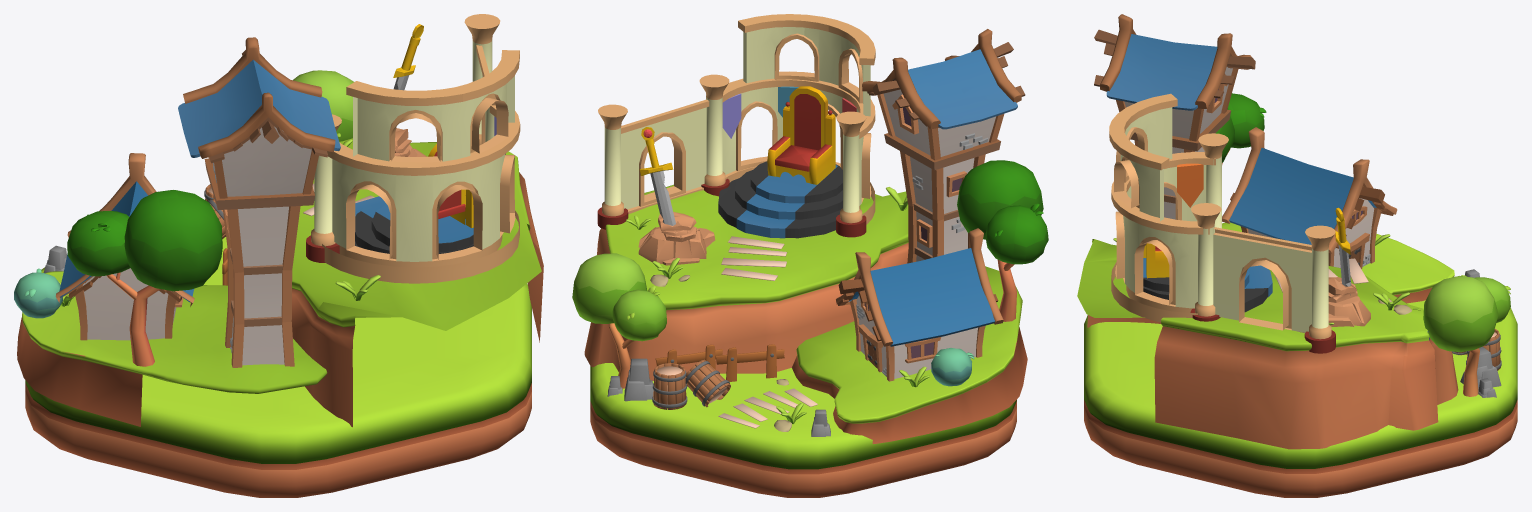
Rendered from island_KingsQuarters.fbx.
3 views of the same model, side by side, from view 1: azimuth 30°, elevation 25°; view 2: azimuth 150°, elevation 25°; view 3: azimuth 270°, elevation 25° (orthographic). The views are drawn at different scales.
Visible parts, largest first — view 1: Base_Island, Building_4, Building_2, Building_3, Building_5; view 2: Base_Island, Building_4, Building_2, Building_3, Building_1, Building_5; view 3: Base_Island, Building_4, Building_3, Building_2, Building_5, Building_1.
Boxes of the visible parts, left/top/right/bottom form: Base_Island: left=14, top=70, right=543, bottom=497; Building_4: left=306, top=14, right=520, bottom=283; Building_2: left=178, top=37, right=340, bottom=367; Building_3: left=55, top=153, right=194, bottom=340; Building_5: left=393, top=24, right=426, bottom=156; Base_Island: left=572, top=160, right=1048, bottom=497; Building_4: left=597, top=14, right=875, bottom=238; Building_2: left=862, top=29, right=1025, bottom=263; Building_3: left=836, top=228, right=1003, bottom=381; Building_1: left=652, top=344, right=784, bottom=409; Building_5: left=638, top=127, right=715, bottom=265; Base_Island: left=1077, top=93, right=1517, bottom=497; Building_4: left=1109, top=93, right=1335, bottom=353; Building_3: left=1222, top=127, right=1397, bottom=268; Building_2: left=1094, top=14, right=1255, bottom=219; Building_5: left=1328, top=207, right=1370, bottom=326; Building_1: left=1452, top=329, right=1501, bottom=370.
Size of the model in its own units: 2189 by 1702 by 2004.
